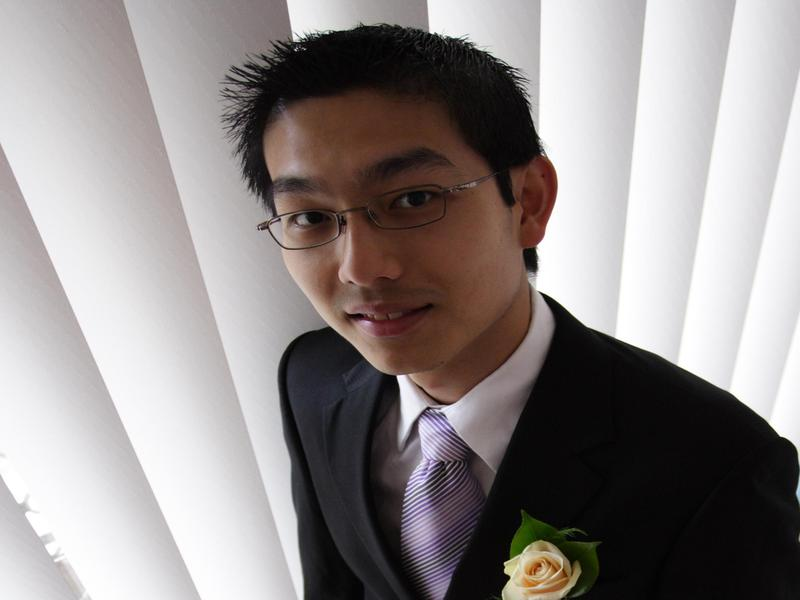person: (222, 16, 799, 600)
